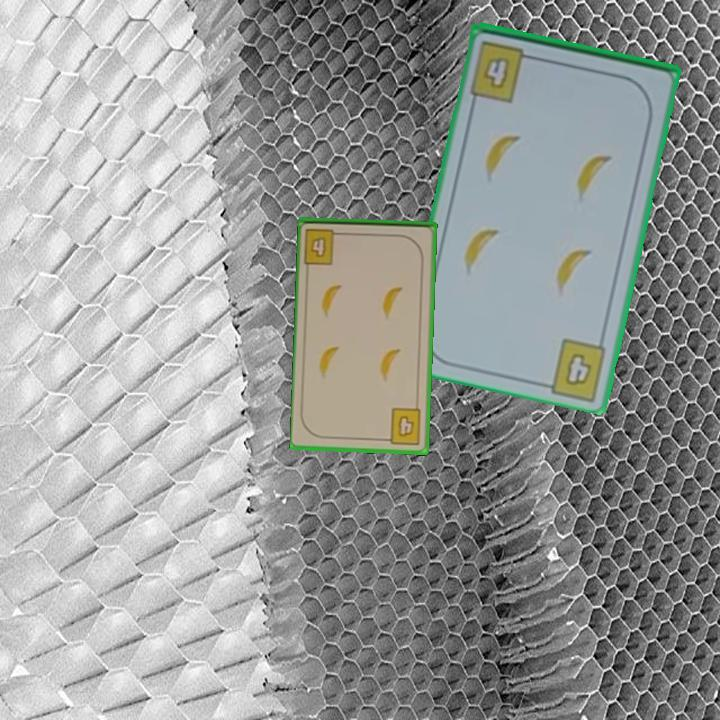4b: (466, 38, 540, 105), (380, 404, 424, 447), (301, 225, 346, 267), (562, 350, 595, 390)
